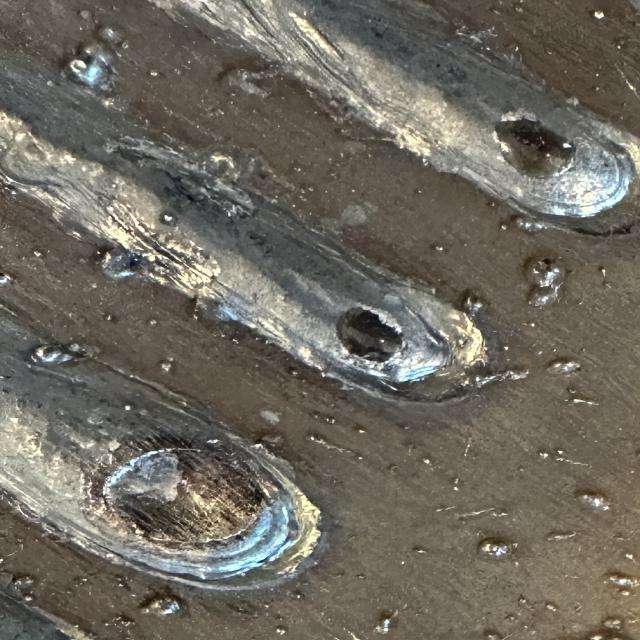Excess Reinforcement: (165, 143, 255, 218), (453, 20, 548, 90)
Spatters: (65, 42, 113, 90), (525, 259, 565, 306), (30, 344, 95, 365), (308, 435, 362, 459), (592, 616, 629, 640), (607, 572, 640, 595), (478, 539, 517, 558), (143, 596, 180, 616), (510, 215, 550, 232), (547, 359, 580, 375), (578, 495, 610, 511), (463, 295, 485, 316), (98, 26, 122, 44), (547, 531, 577, 541), (375, 618, 392, 634), (558, 458, 590, 466), (18, 576, 35, 589), (483, 629, 503, 640), (160, 214, 177, 225), (0, 272, 13, 286), (160, 360, 173, 372), (572, 399, 598, 404), (117, 40, 128, 50), (593, 10, 605, 19), (545, 602, 557, 611), (432, 245, 447, 252), (103, 314, 117, 321), (500, 221, 510, 230), (23, 594, 33, 602), (293, 592, 303, 600), (33, 250, 42, 258), (148, 319, 158, 326), (277, 628, 287, 635), (538, 452, 548, 459), (148, 70, 158, 76), (422, 458, 430, 465), (0, 558, 5, 566), (98, 250, 104, 256), (557, 450, 563, 455), (503, 346, 508, 351)
